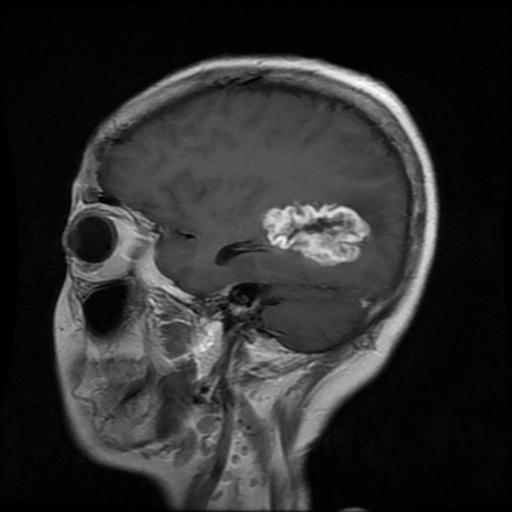glioma: (261, 204, 370, 264)
